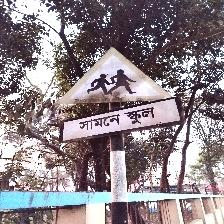School-in-front: (54, 46, 182, 144)
